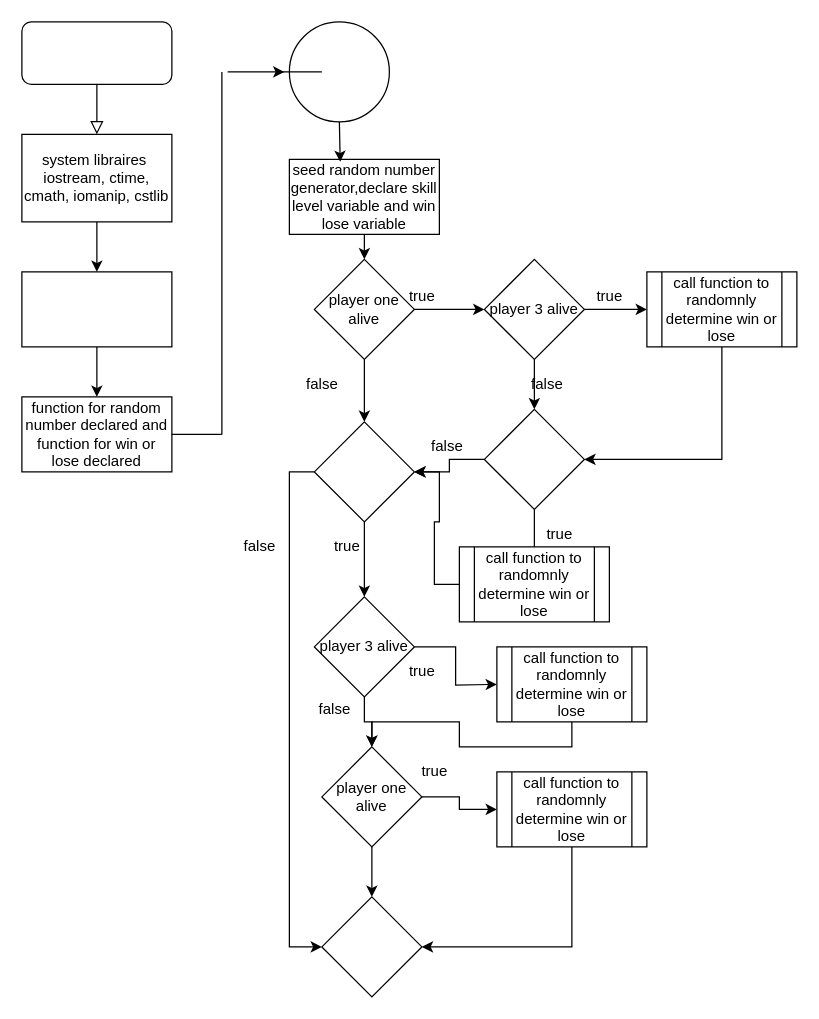
The diagram is 819 pixels wide and 1019 high, and some of its shapes have lost their labels. Here are the shapes that lost their labels. From the top down, the centre of each, then its label:
the point at 96,52: author: Busch, Michael created 1/30/21
the point at 338,71: main part of function begin exacution
the point at 96,309: global constant set for max random number recived
the point at 363,471: player two alive
the point at 533,458: player 2 alive
the point at 371,946: player three alive
